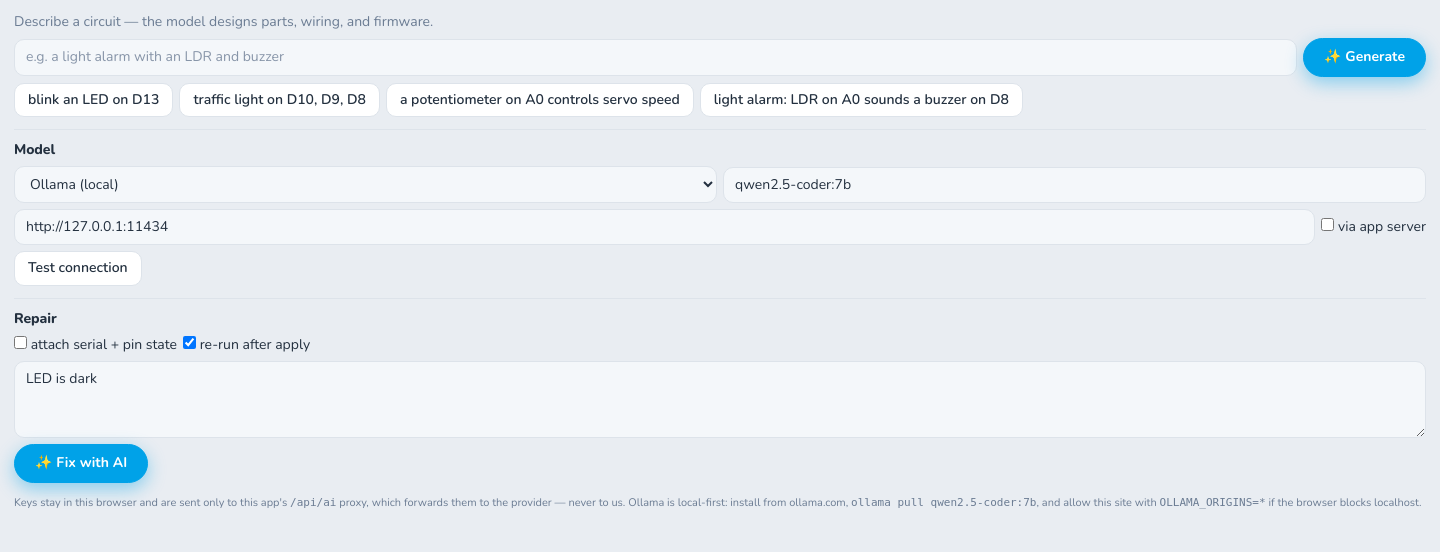
Test: AiPanel repair loop › doctor fills models via the provider path
Click the button "Test connection": (78, 269) [14,252,142,286]
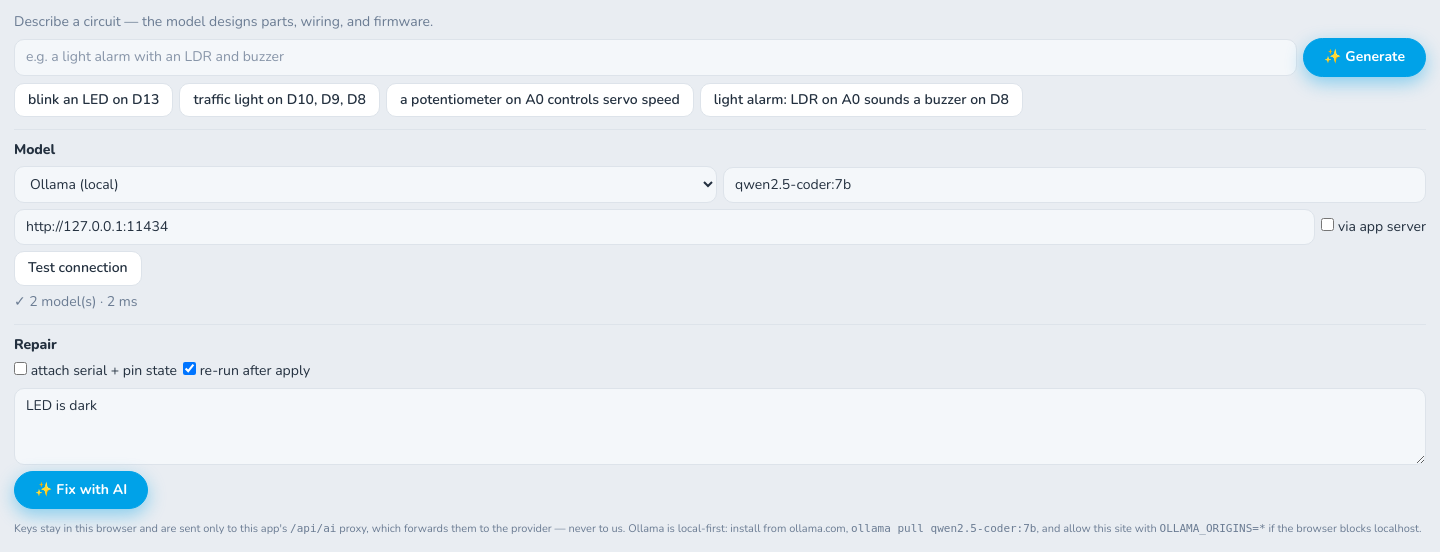
Result: the text "2 model(s)" is shown at [14,292,138,311]
